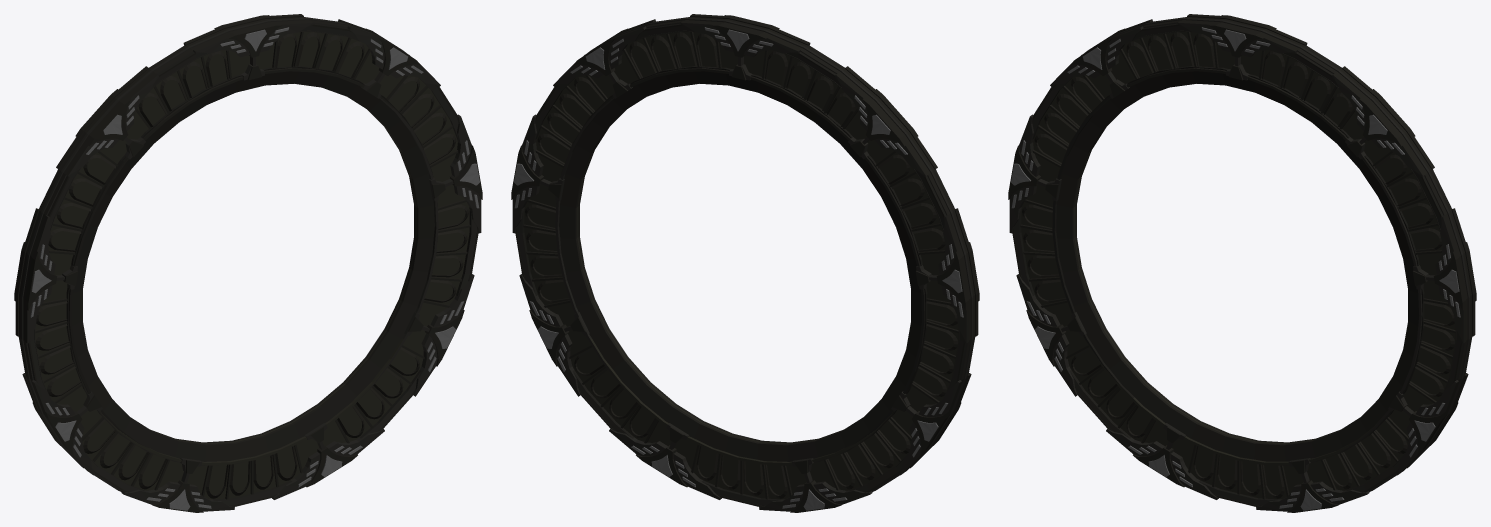
File: UniverseGate.obj
3 renders of one model, left to right at view 1: azimuth 30°, elevation 25°; view 2: azimuth 150°, elevation 25°; view 3: azimuth 330°, elevation 25°, orthographic.
Parts seen in each view (by area): view 1: Ring, Symbols, Chevron, CenterChevron, Tube; view 2: Ring, Symbols, Chevron, CenterChevron, Tube; view 3: Ring, Symbols, Chevron, CenterChevron, Tube.
Part boxes in pixels (box(x1,y1,x2,y2)): Ring: box(18, 17, 478, 506); Symbols: box(35, 31, 470, 499); Chevron: box(14, 14, 482, 512); CenterChevron: box(41, 42, 464, 496); Tube: box(68, 68, 438, 465); Ring: box(515, 17, 975, 506); Symbols: box(523, 31, 958, 499); Chevron: box(511, 14, 979, 512); CenterChevron: box(529, 42, 952, 496); Tube: box(555, 68, 925, 465); Ring: box(1012, 17, 1472, 506); Symbols: box(1020, 31, 1455, 499); Chevron: box(1008, 14, 1476, 512); CenterChevron: box(1024, 40, 1447, 494); Tube: box(1052, 68, 1422, 465).
Bounding box in the file's own units: 6.9 × 6.9 × 0.401.
2 materials, 2 textured.
